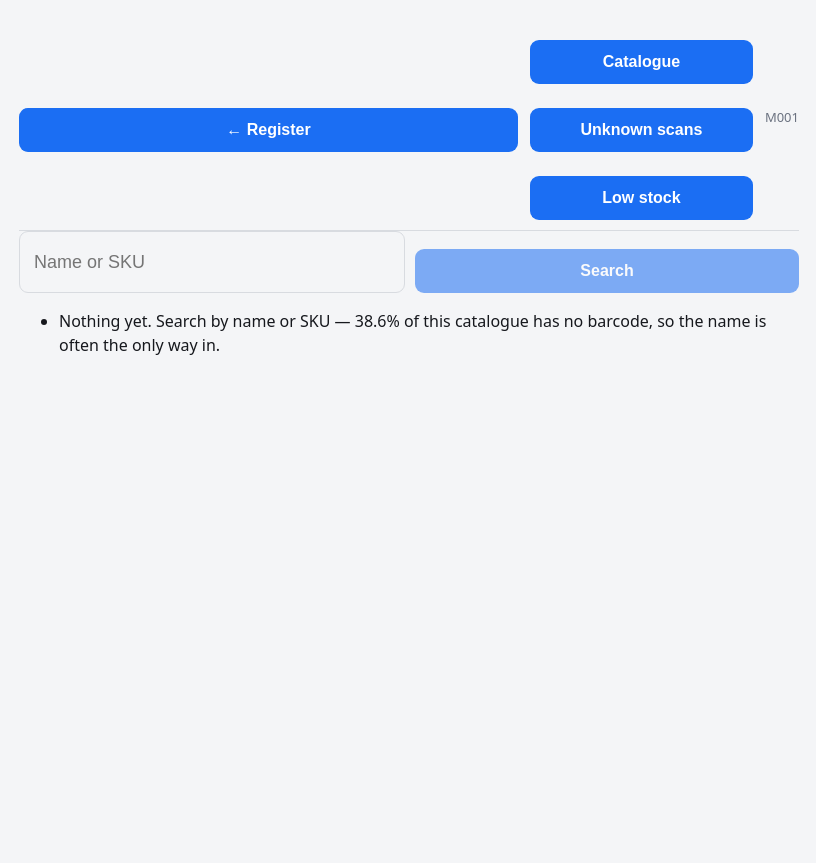
Test case: a duplicate barcode › names the product already holding the code
The width and height of the screenshot is (816, 863).
Step 1. Type "tomato" into the field named "Search the catalogue" → (212, 262), box [19, 231, 405, 293]
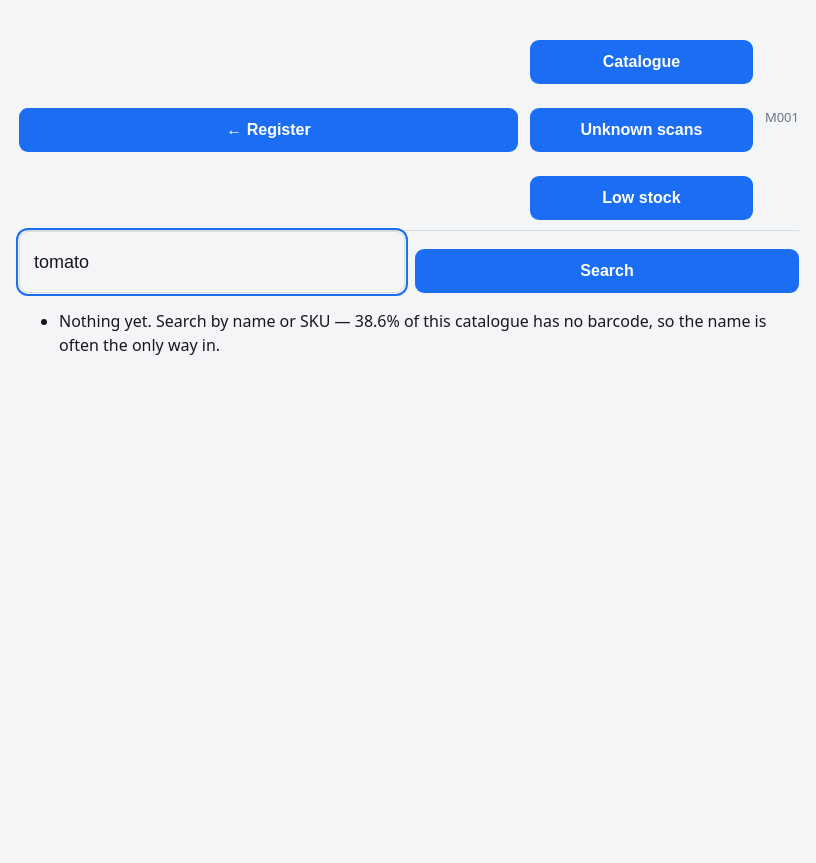
Step 2. Click the button "Search" → (607, 271), box [415, 249, 799, 293]
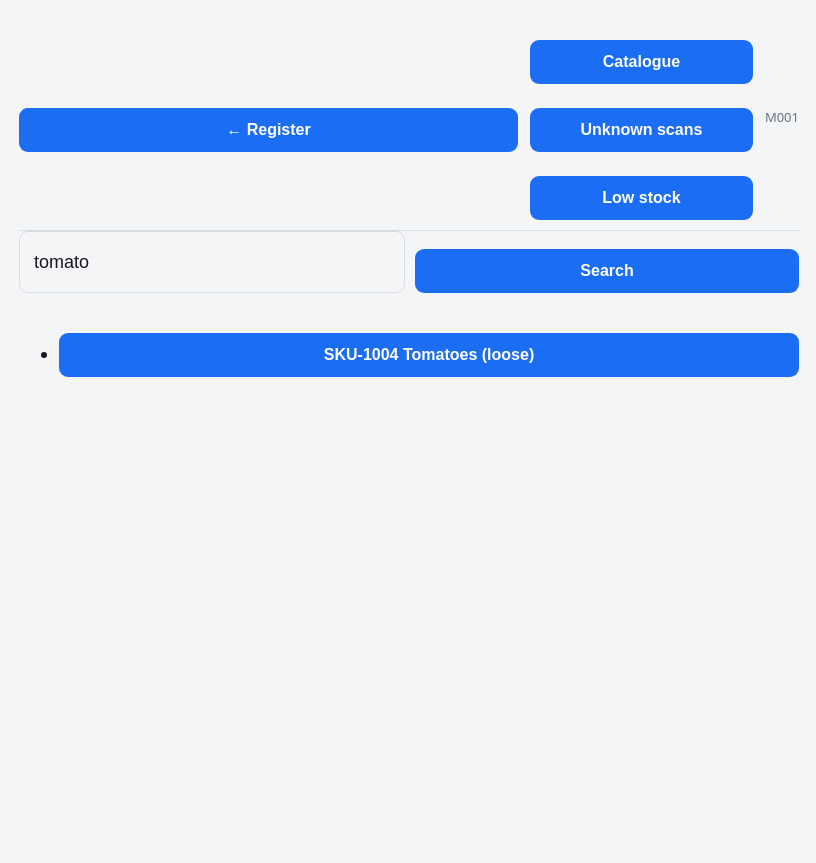
Step 3. Click the button "SKU-1004 Tomatoes (loose)" → (429, 355), box [59, 333, 799, 377]
(page scrolled)
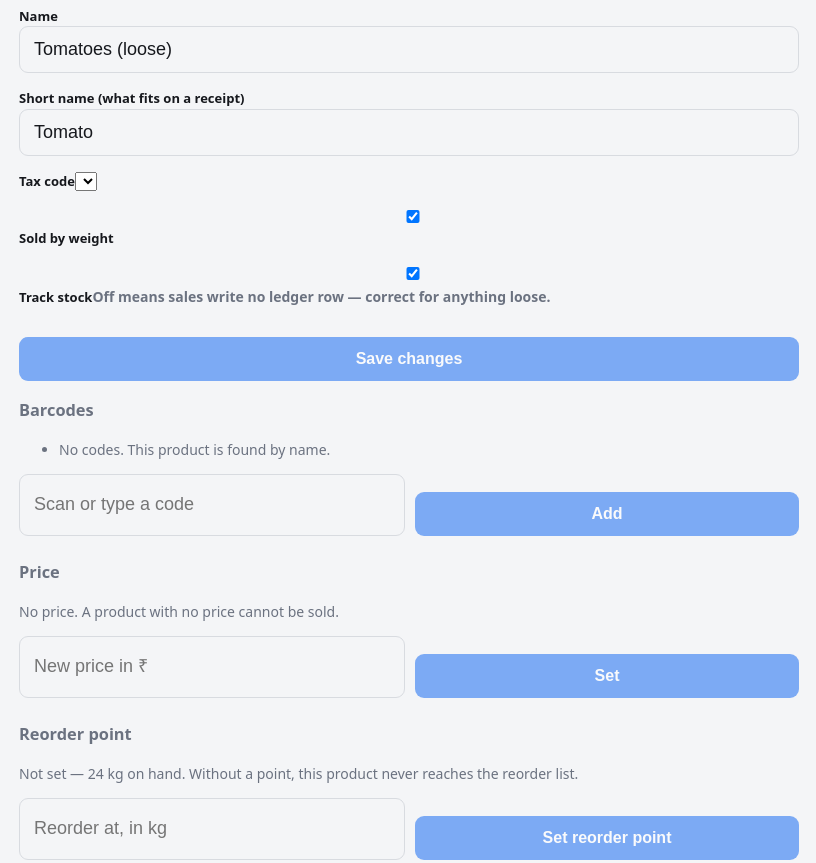
Step 4. Type "8906110944741" into the field named "Add a barcode" → (212, 505), box [19, 474, 405, 536]
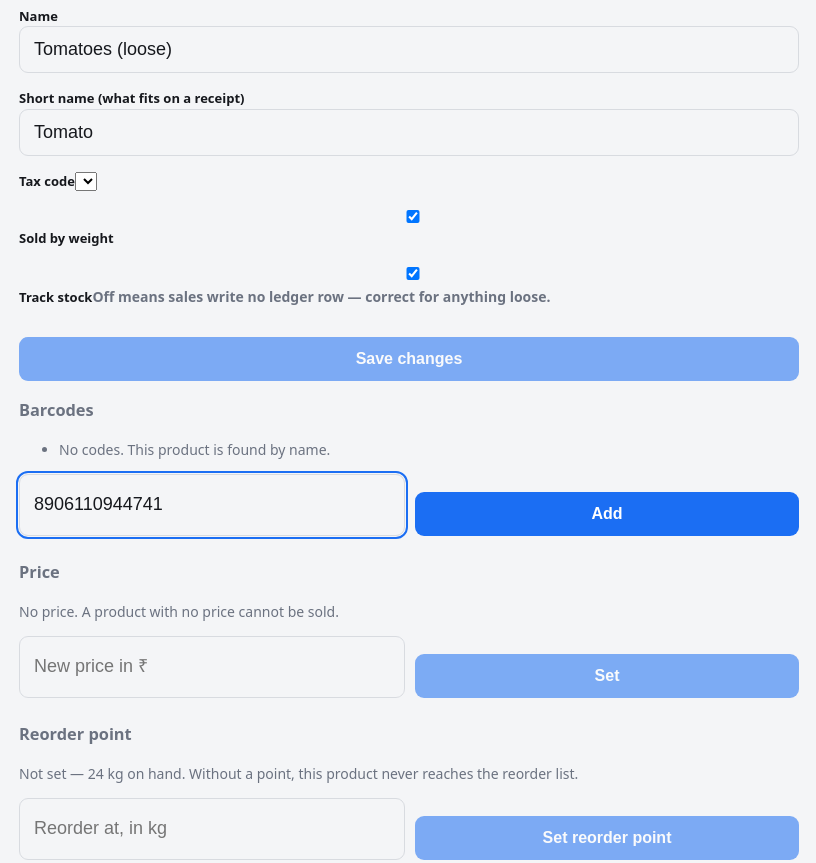
Step 5. Click the button "Add" → (607, 514), box [415, 492, 799, 536]
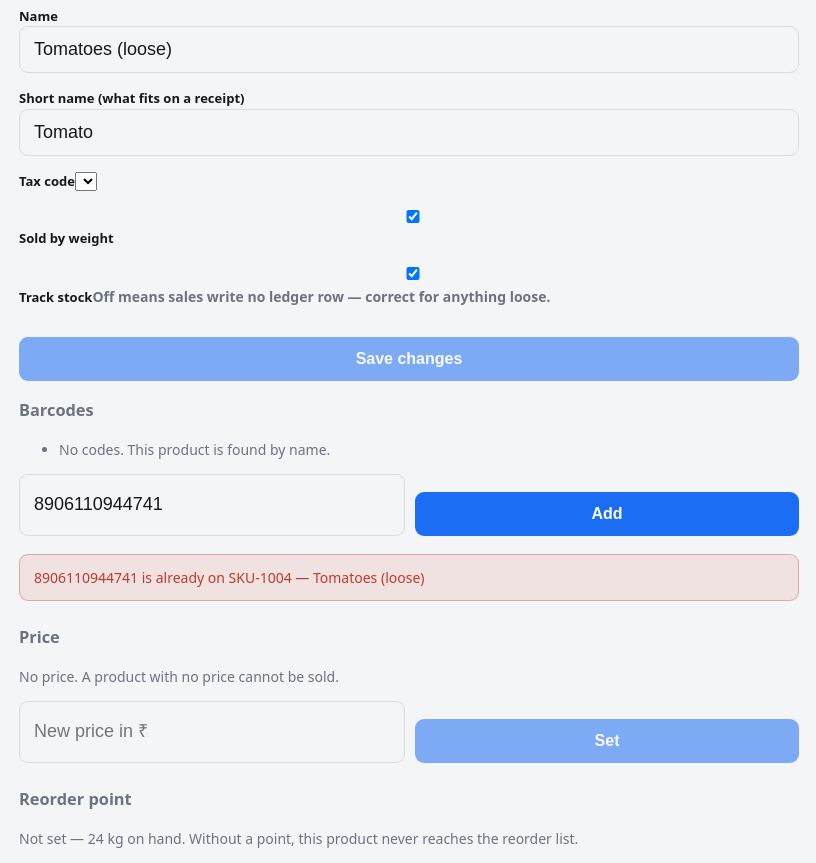
Check: the text "8906110944741 is already on SKU-1004 — Tomatoes (loose)" is shown, box [19, 554, 799, 601]
